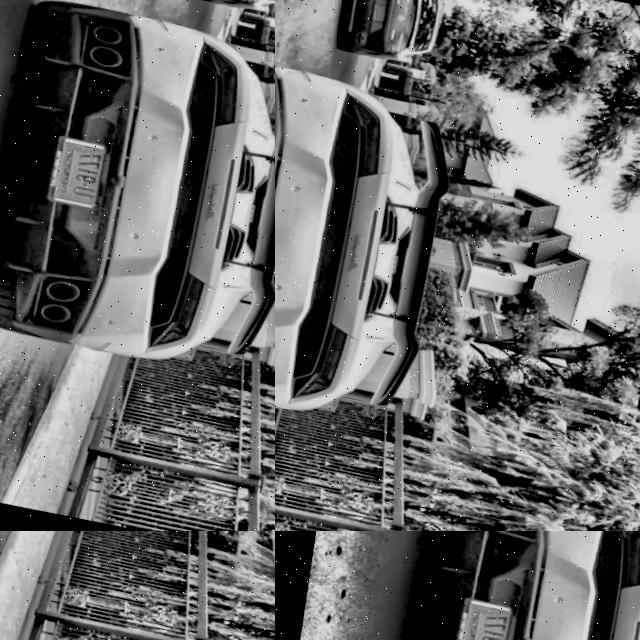license-plate: (449, 598, 514, 640)
